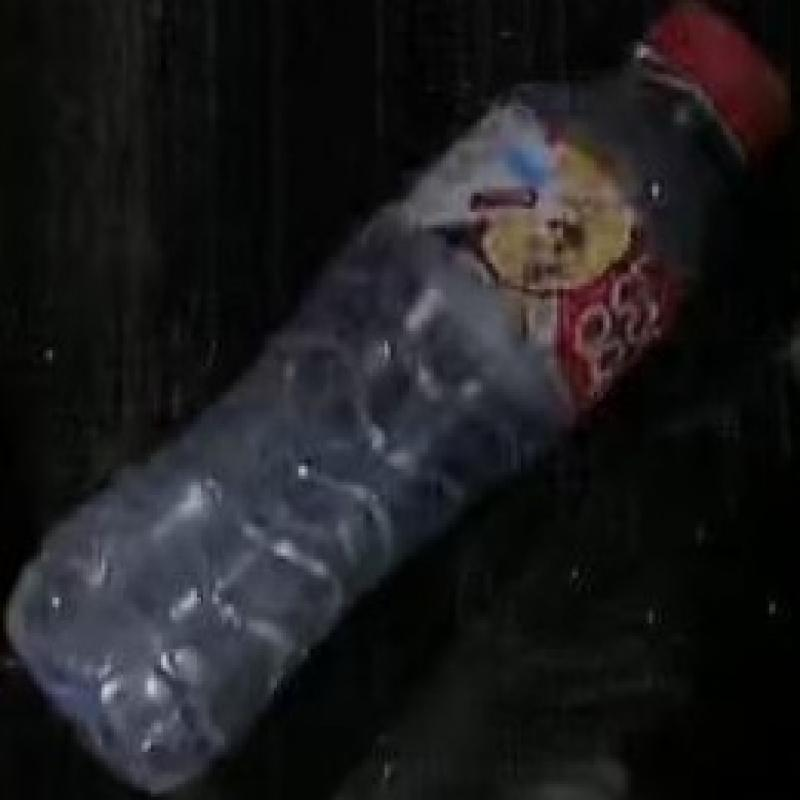botella: (9, 0, 797, 800)
